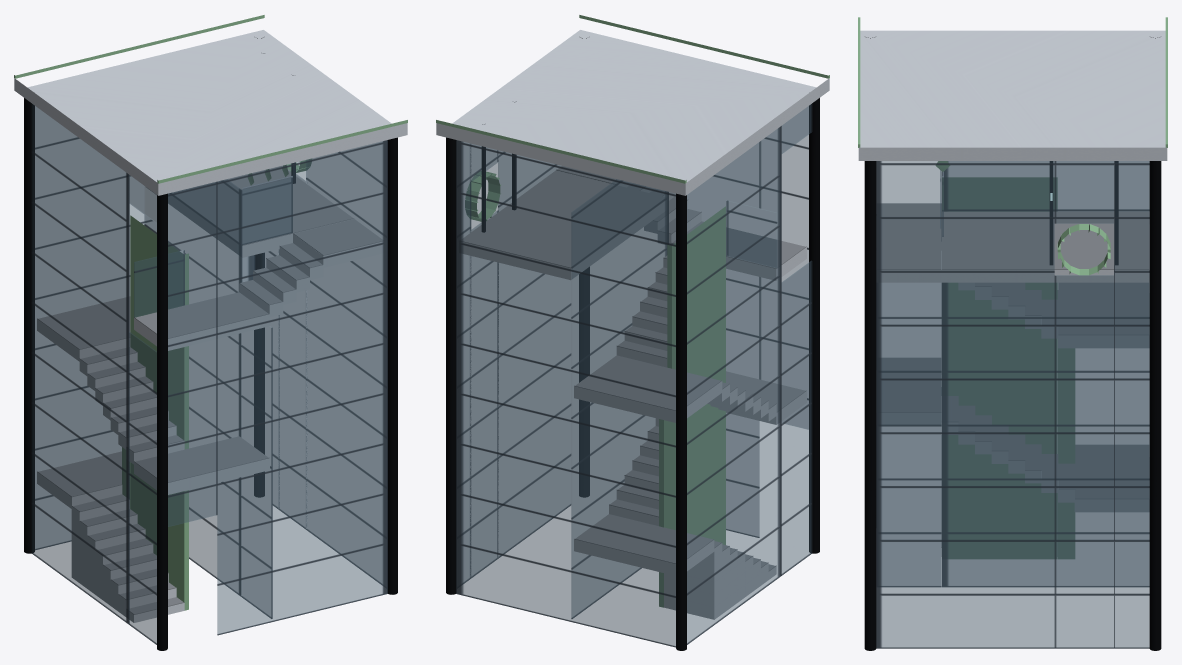
The model's file is tt_slide_tower.glb.
3 views of the same model, side by side, from view 1: azimuth 30°, elevation 25°; view 2: azimuth 150°, elevation 25°; view 3: azimuth 270°, elevation 25° (orthographic). The views are drawn at different scales.
Visible parts, largest first — view 1: Enclosure_Glass, Roof, Treads_Slate, Columns, Stair_Cast, Spine_Wall, Deck_Finish, Deck, Fascia_Band; view 2: Enclosure_Glass, Roof, Columns, Stair_Cast, Spine_Wall, Treads_Slate, Deck_Finish, Deck, Fascia_Band, Slide_Tube, Gate_Posts; view 3: Enclosure_Glass, Roof, Spine_Wall, Treads_Slate, Deck_Finish, Columns, Stair_Cast, Deck, Gate_Posts, Slide_Tube, Fascia_Band.
Part boxes in pixels (box(x1,y1,x2,y2)): Enclosure_Glass: box(31, 104, 387, 644); Roof: box(14, 30, 407, 195); Treads_Slate: box(37, 243, 322, 614); Columns: box(24, 37, 397, 650); Stair_Cast: box(37, 247, 323, 622); Spine_Wall: box(122, 215, 188, 610); Deck_Finish: box(172, 166, 382, 255); Deck: box(168, 193, 383, 267); Fascia_Band: box(14, 15, 407, 183); Enclosure_Glass: box(456, 103, 812, 647); Roof: box(436, 30, 829, 195); Columns: box(446, 37, 819, 650); Stair_Cast: box(574, 186, 806, 619); Spine_Wall: box(659, 206, 725, 607); Treads_Slate: box(575, 183, 806, 570); Deck_Finish: box(462, 166, 664, 267); Deck: box(462, 170, 664, 279); Fascia_Band: box(436, 15, 829, 183); Slide_Tube: box(465, 171, 500, 221); Gate_Posts: box(481, 101, 516, 232); Enclosure_Glass: box(876, 161, 1149, 648); Roof: box(858, 30, 1167, 160); Spine_Wall: box(942, 177, 1074, 558); Treads_Slate: box(880, 203, 1148, 547); Deck_Finish: box(880, 211, 1149, 269); Columns: box(864, 37, 1161, 650); Stair_Cast: box(881, 283, 1149, 556); Deck: box(880, 225, 1149, 282); Gate_Posts: box(1049, 161, 1118, 265); Slide_Tube: box(1057, 224, 1110, 275); Fascia_Band: box(858, 17, 1167, 147).
Size of what is drawn, in the model's own units: 5.2 by 9.46 by 5.22.
Materials: 8 (5 with a texture image).
